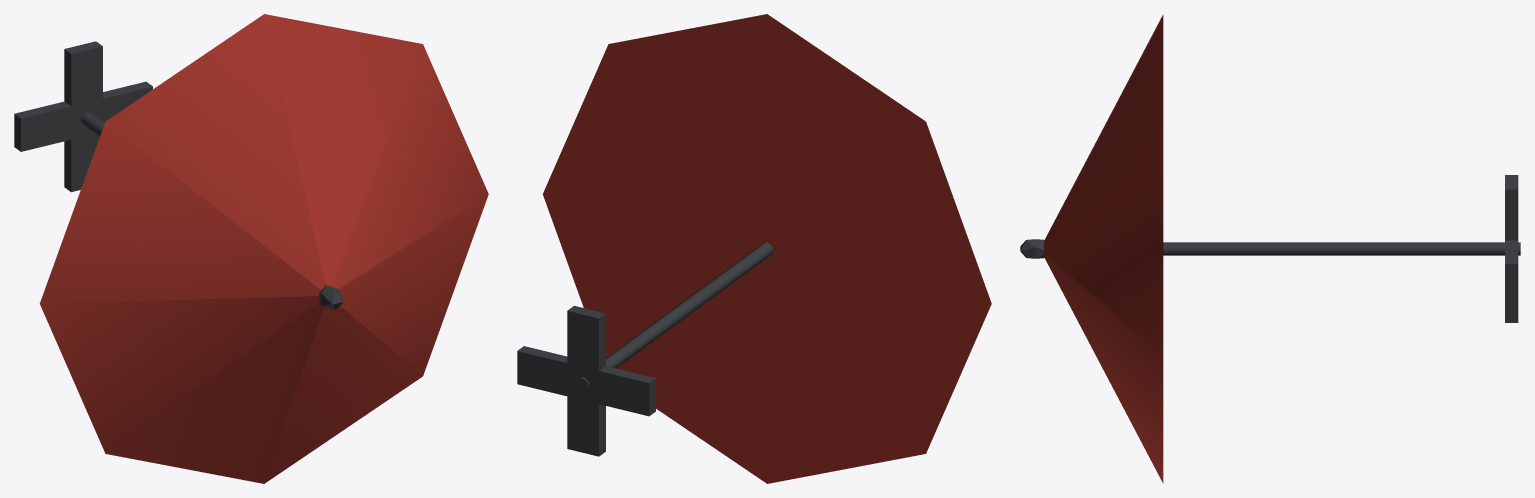
The model's file is parasol.glb.
The picture shows the model from 3 angles, left to right: view 1: azimuth 30°, elevation 25°; view 2: azimuth 150°, elevation 25°; view 3: azimuth 270°, elevation 25°; orthographic projection. The views are drawn at different scales.
Size of the model in its own units: 1 by 1 by 1.
